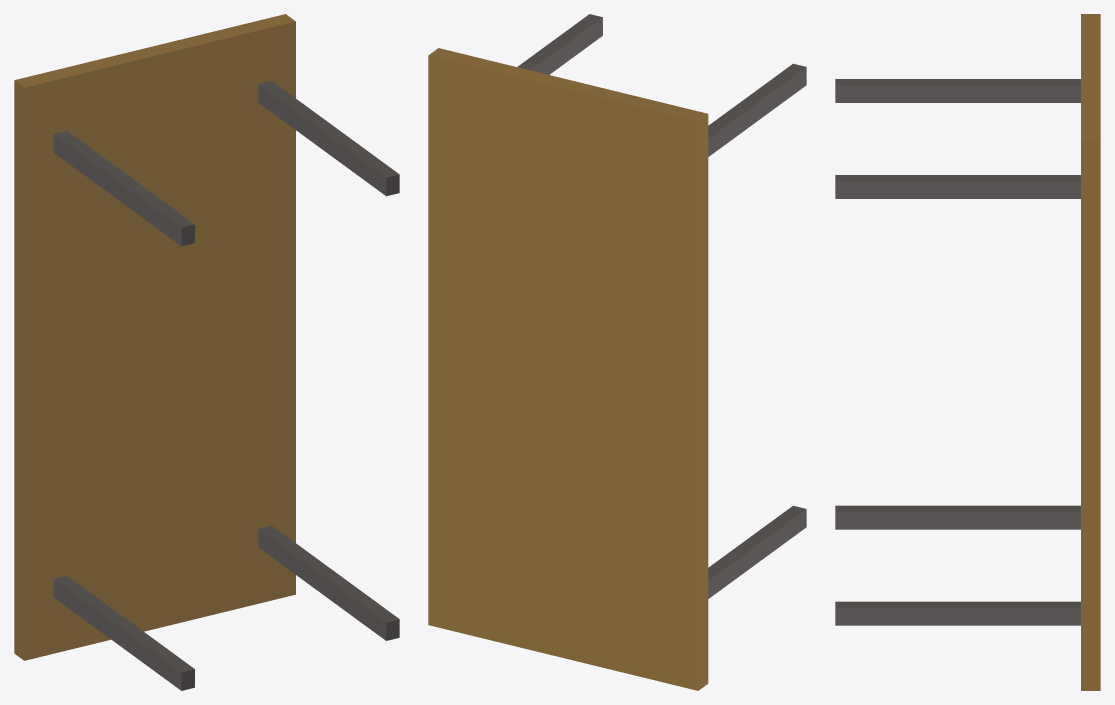
File: Desk6.glb
The picture shows the model from 3 angles, left to right: view 1: azimuth 30°, elevation 25°; view 2: azimuth 150°, elevation 25°; view 3: azimuth 270°, elevation 25°; orthographic projection. The views are drawn at different scales.
Parts seen in each view (by area): view 1: SO_Desk_06; view 2: SO_Desk_06; view 3: SO_Desk_06.
Boxes of the visible parts, x1,y1,x2,y2 form: SO_Desk_06: (14, 14, 399, 690); SO_Desk_06: (428, 14, 806, 690); SO_Desk_06: (835, 14, 1100, 690).
Bounding box in the file's own units: 1.79 × 3.61 × 1.58.
Materials: 1 (1 with a texture image).
